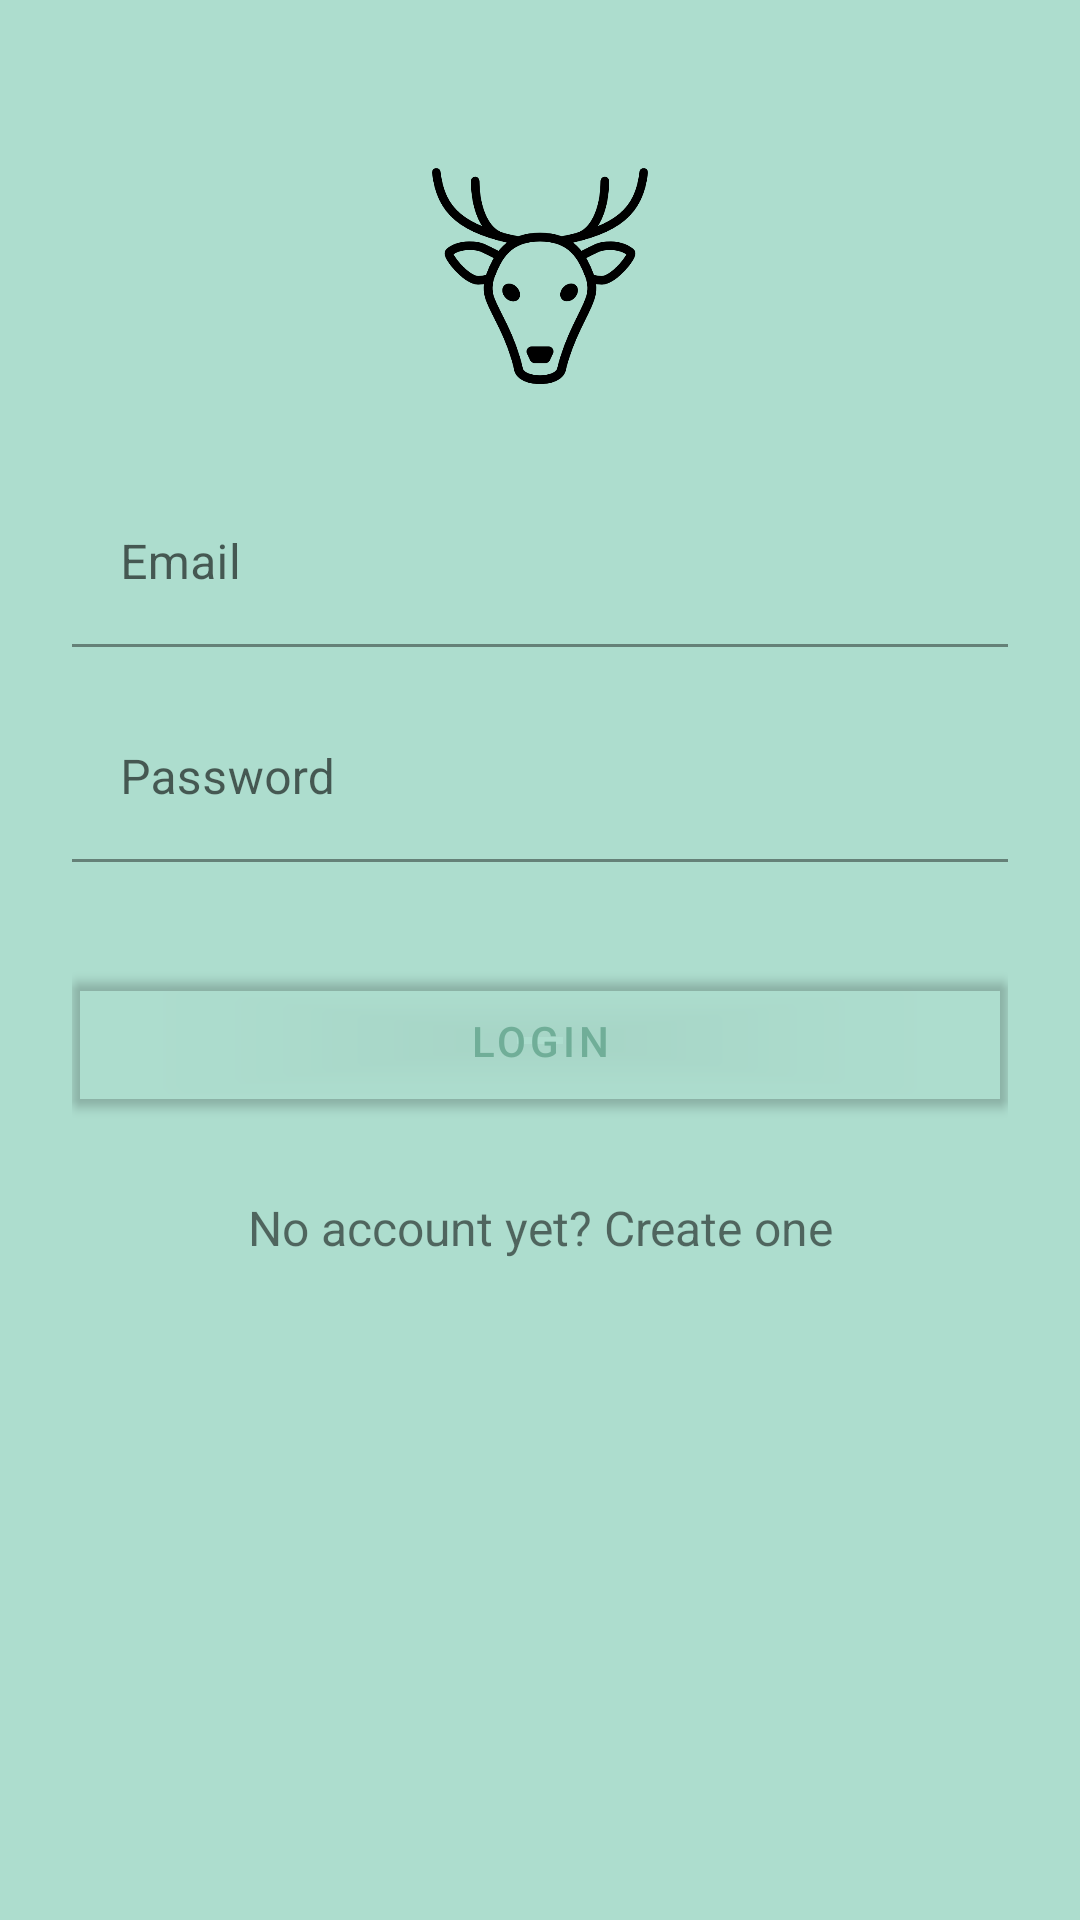

Named icons in this screenshot (1080×1920) and their bounding boxes, [left=x1, top=y1, right=x2, bottom=y2]:
deer: [left=432, top=168, right=648, bottom=384]
